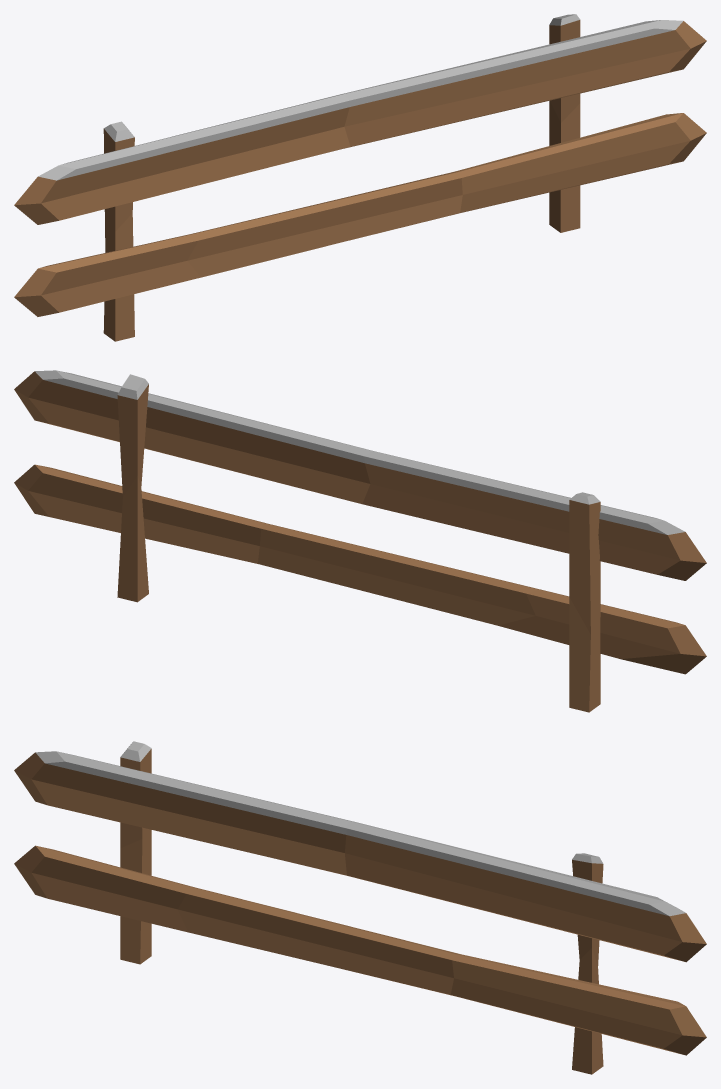
Rendered from Fence_3 Winter.fbx.
The picture shows the model from 3 angles, top to bottom: view 1: azimuth 30°, elevation 25°; view 2: azimuth 150°, elevation 25°; view 3: azimuth 330°, elevation 25°; orthographic projection.
Parts seen in each view (by area): view 1: Fence3Winter_mesh; view 2: Fence3Winter_mesh; view 3: Fence3Winter_mesh.
Part boxes in pixels (x1=…): Fence3Winter_mesh: x1=14, y1=14, x2=706, y2=341; Fence3Winter_mesh: x1=14, y1=370, x2=706, y2=712; Fence3Winter_mesh: x1=14, y1=741, x2=706, y2=1074.
Size of the model in its own units: 336 by 99.72 by 18.55.
